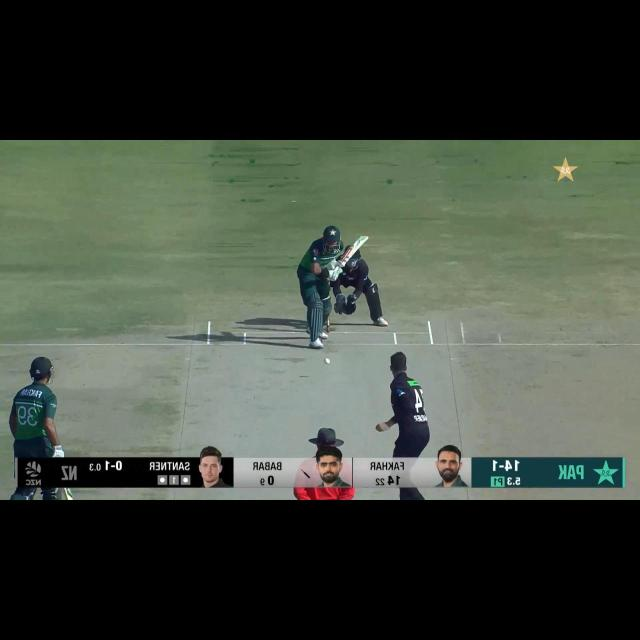bat: (340, 237, 368, 265), (62, 488, 76, 500)
toe: (354, 233, 372, 246), (62, 492, 75, 500)
